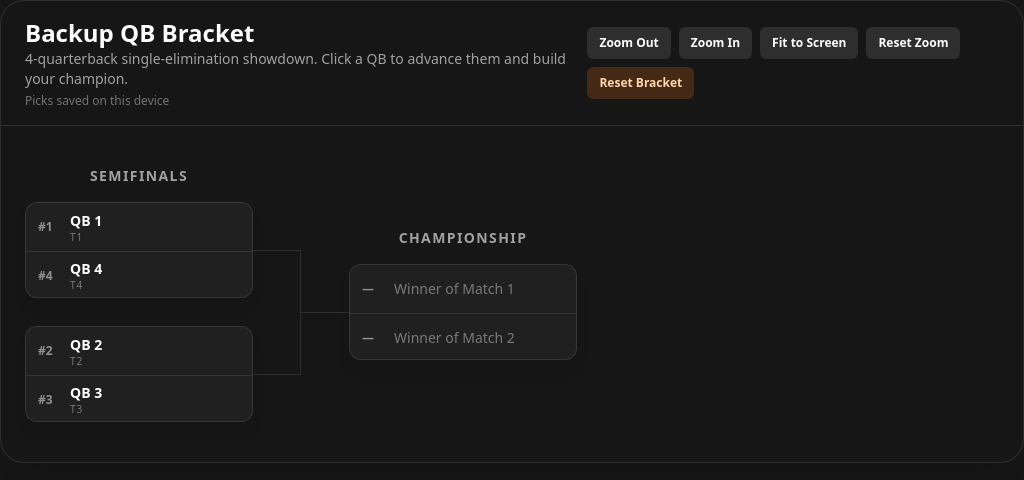
BackupQBBracket component › saves a pick to the account
This screenshot has width=1024, height=480.
Click the button with aria-label "Select QB 1 as winner". click: coordinates (139, 227)
box: [26,203,252,251]
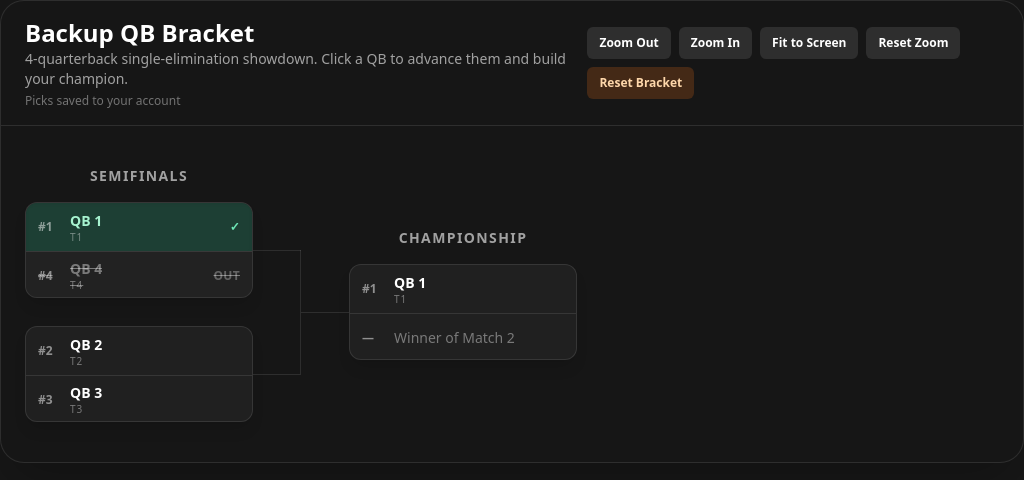
Result: the text "Picks saved to your account" is shown at [25,92,180,109]
